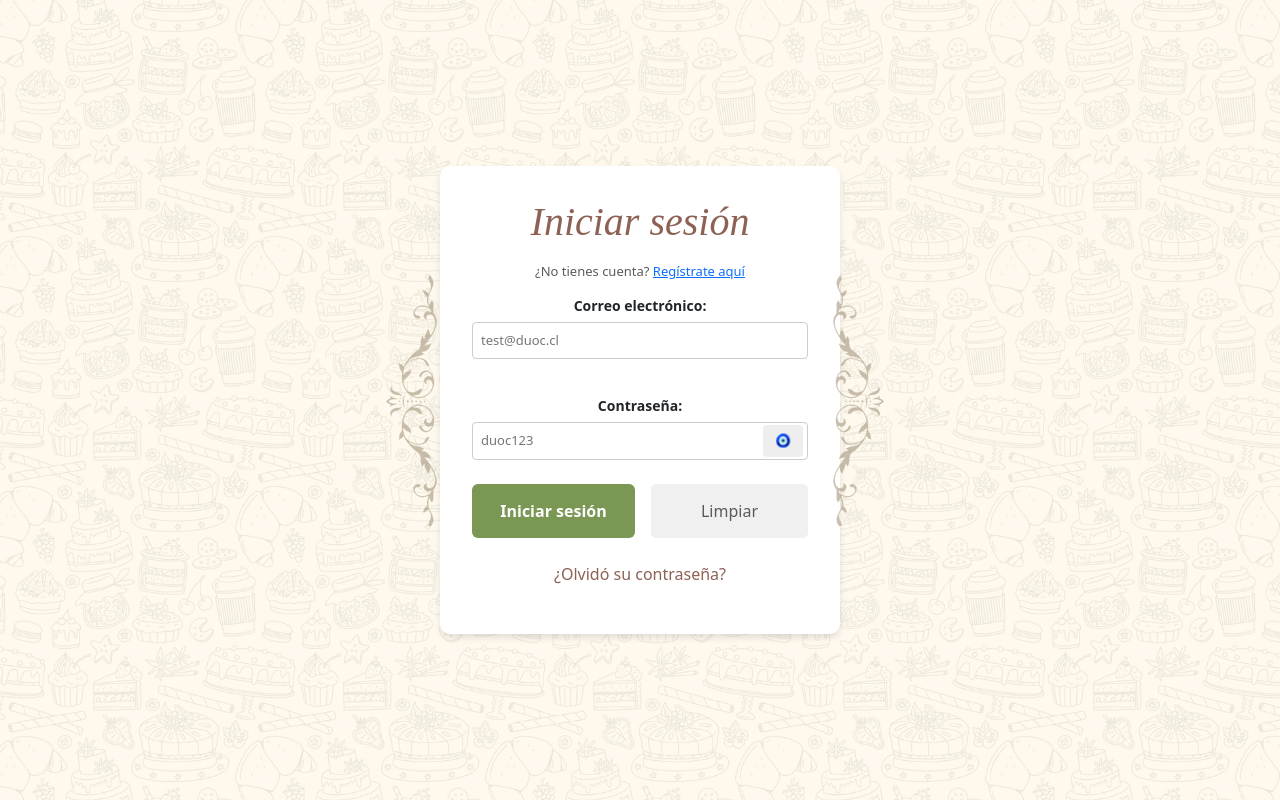
it: Página Login › TEST 3: login que nunca pasó
rellena con cred malas
Type "usuario@falso.cl" into the field with placeholder "test@duoc.cl" at (640, 341), box [472,322,808,359]
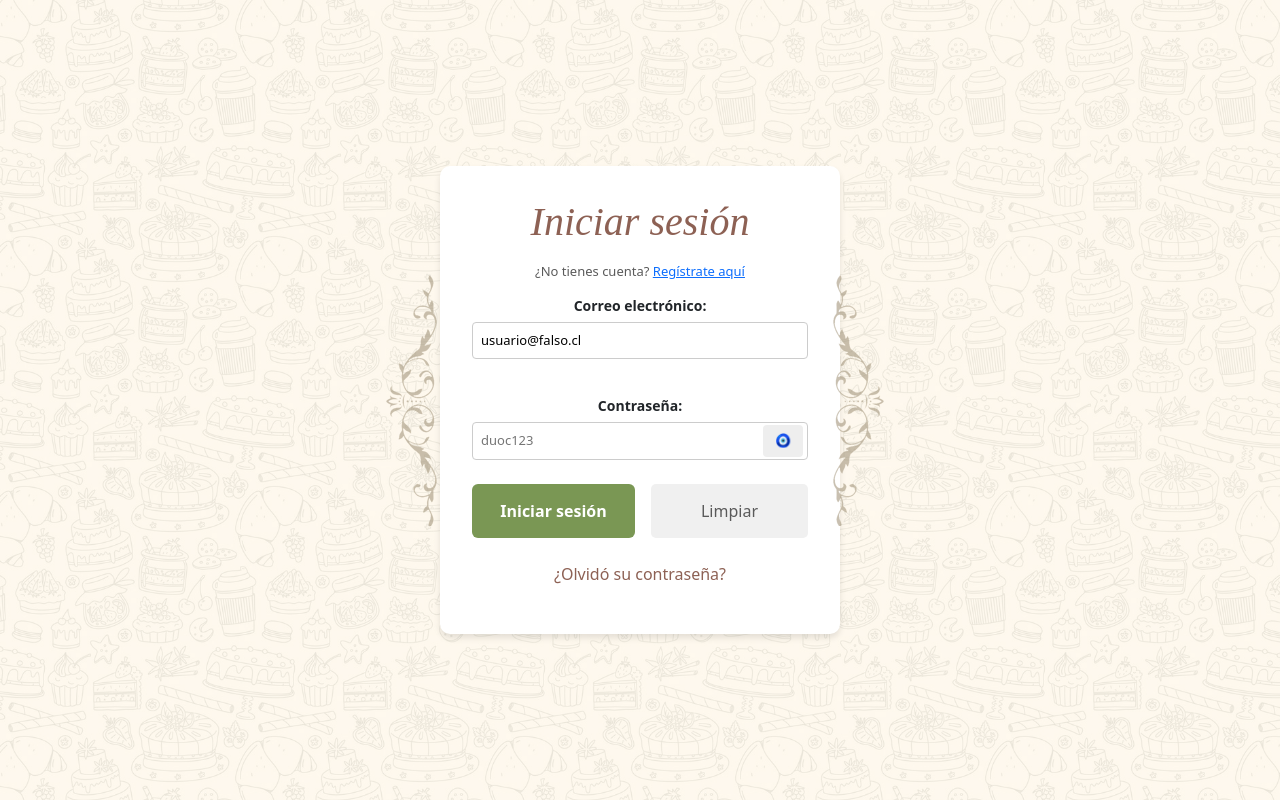
Type "contraseñaMala" into the password field with placeholder "duoc123" at (640, 441), box [472,422,808,460]
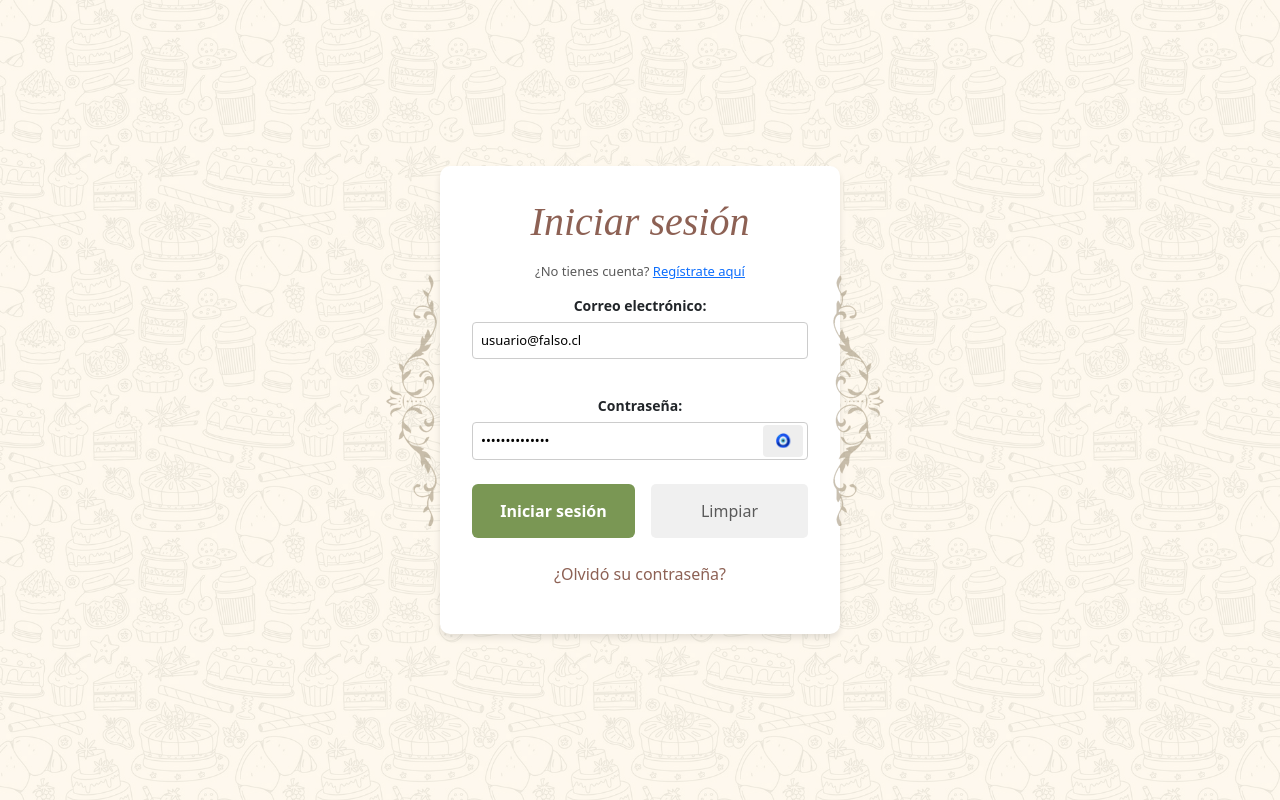
dispara click boton
Click the button "Iniciar sesión" at (554, 511), box [472,484,635,538]
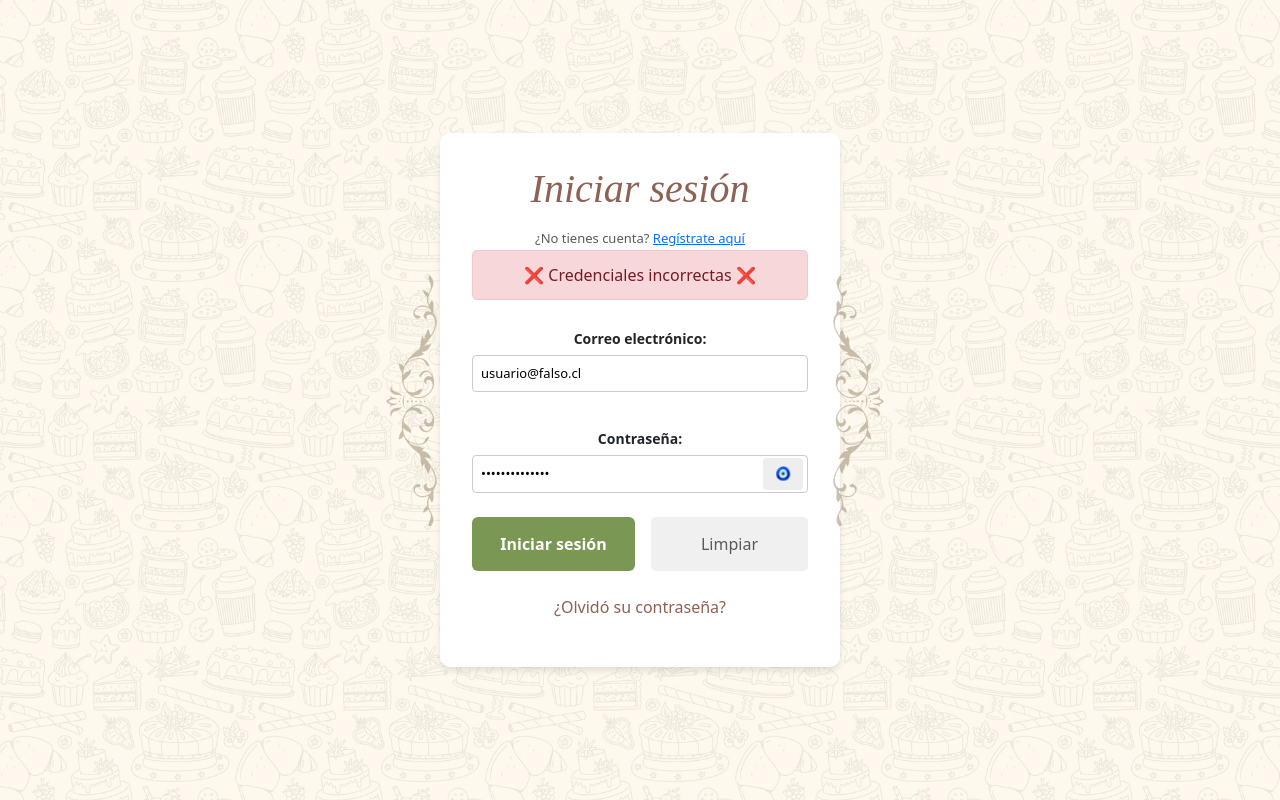
Check: the text "❌ Credenciales incorrectas ❌" is shown, box [472,250,808,300]
